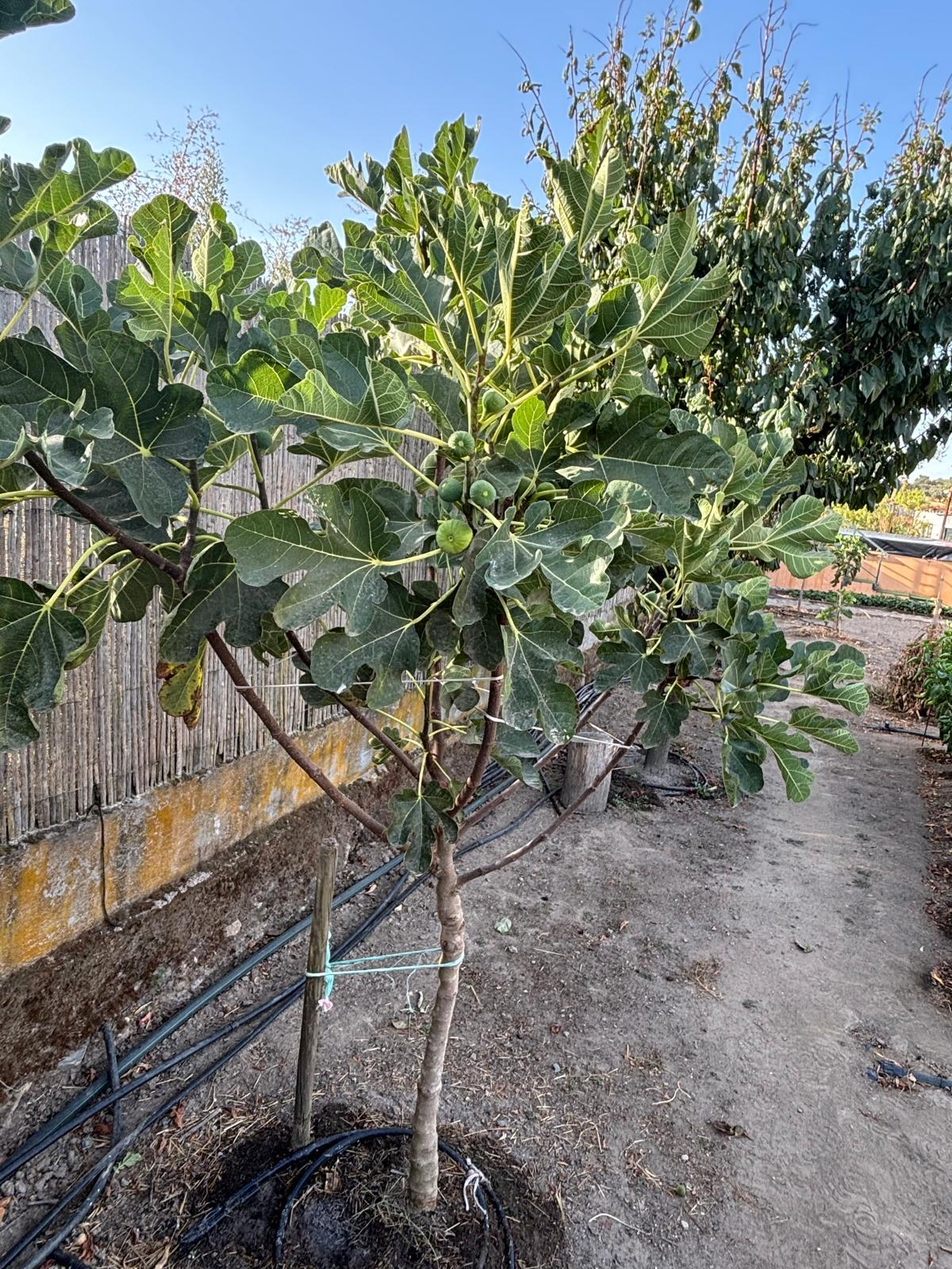higera: (74, 228, 690, 1211)
